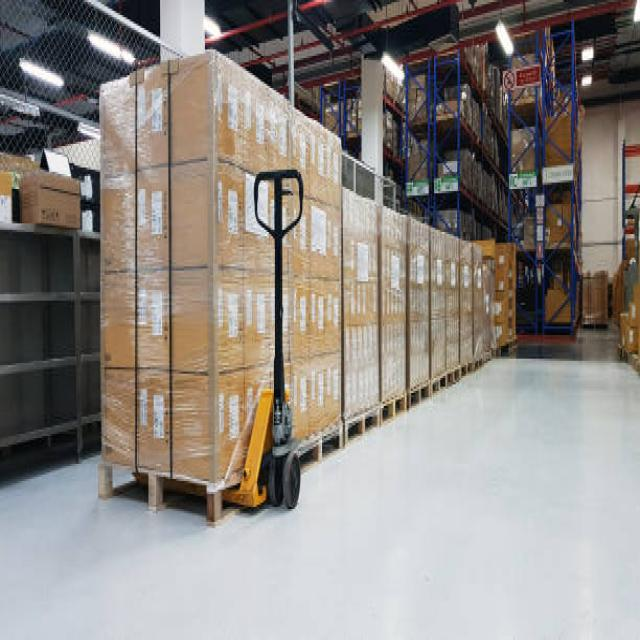Wooden-Pallets: (298, 411, 342, 482), (344, 390, 382, 460), (379, 388, 408, 431), (409, 367, 432, 419), (431, 362, 450, 407)
